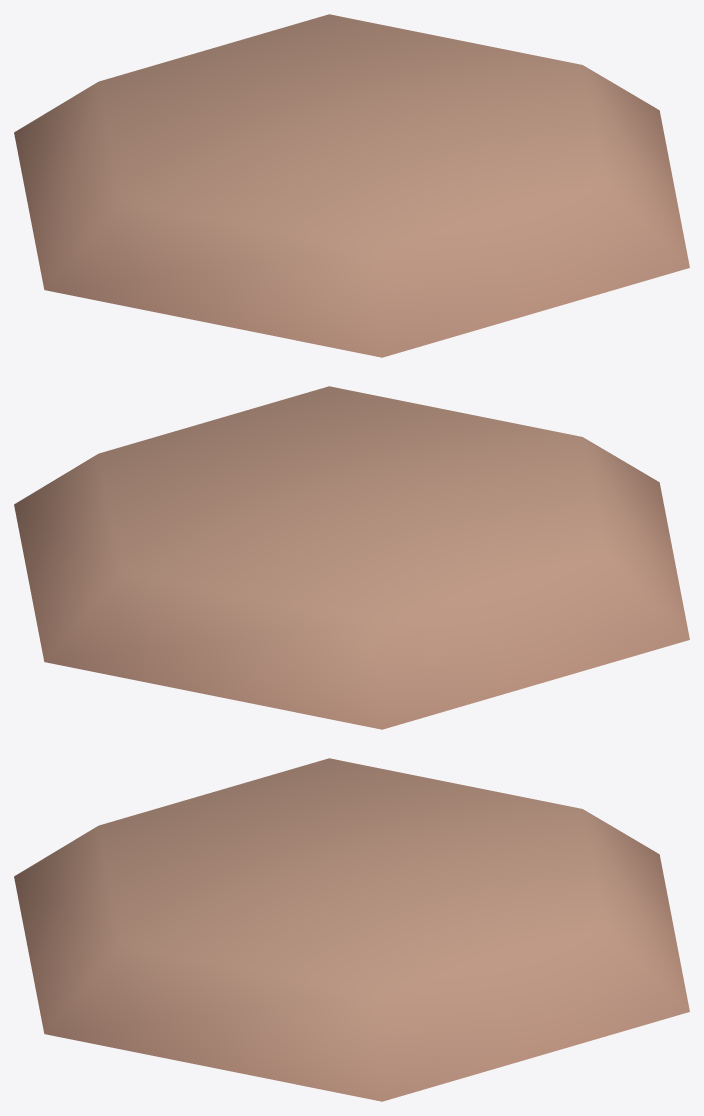
File: (%no-merge) 5_0.glb
3 renders of one model, top to bottom at view 1: azimuth 30°, elevation 25°; view 2: azimuth 150°, elevation 25°; view 3: azimuth 270°, elevation 25°, orthographic.
Visible parts, largest first — view 1: (%no-merge) 5; view 2: (%no-merge) 5; view 3: (%no-merge) 5.
Boxes of the visible parts, <box> form: (%no-merge) 5: <box>14,14,689,357</box>; (%no-merge) 5: <box>14,386,689,729</box>; (%no-merge) 5: <box>14,758,689,1101</box>.
Bounding box in the file's own units: 0.0997 × 0.01 × 0.0904.
